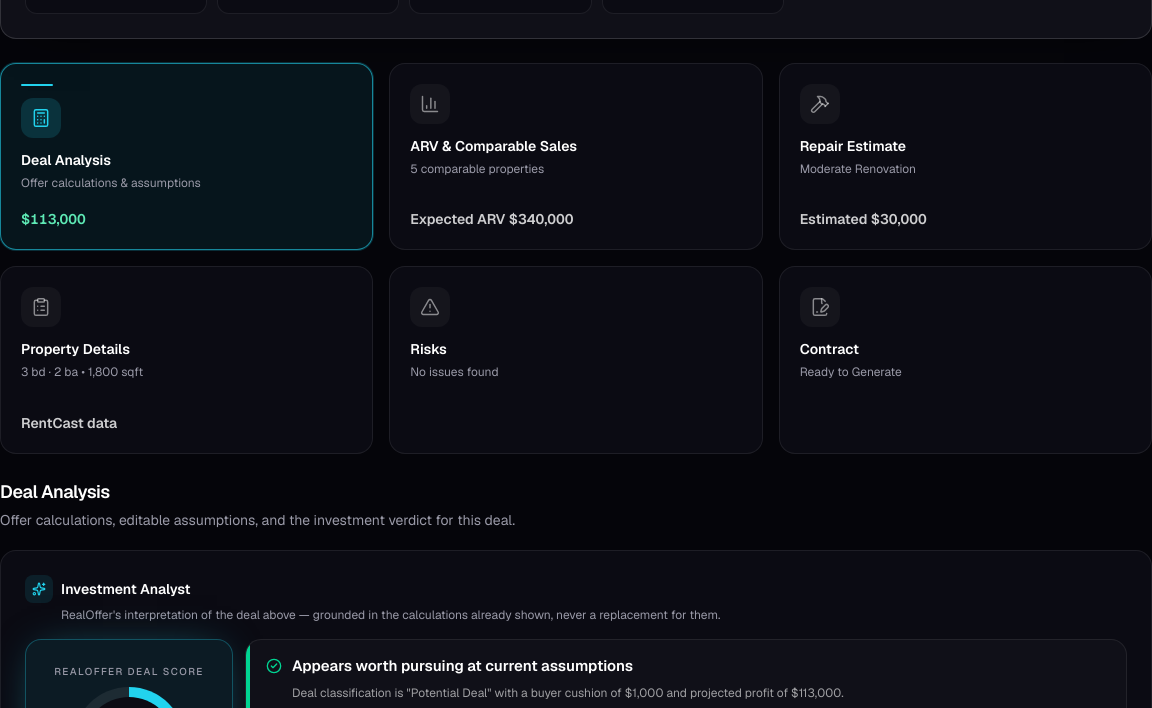
Test: DealWorkspace — section switching › hides Contract content whenever a different section is selected
(page scrolled)
Click the tab "Contract Ready to Generate" at (820, 307), box [779, 266, 1151, 454]
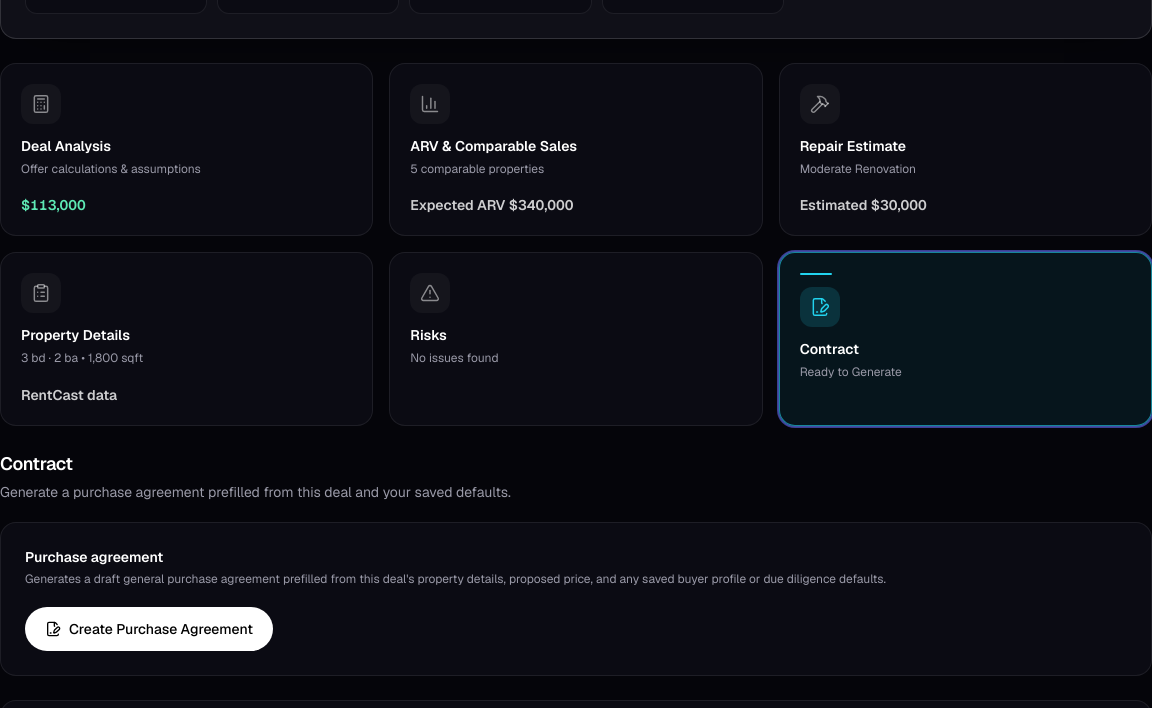
Now the heading "Purchase agreement" is shown, box [25, 548, 163, 566]
Click the tab "Deal Analysis Offer calculations & assumptions $113,000" at (41, 104), box [0, 63, 373, 236]
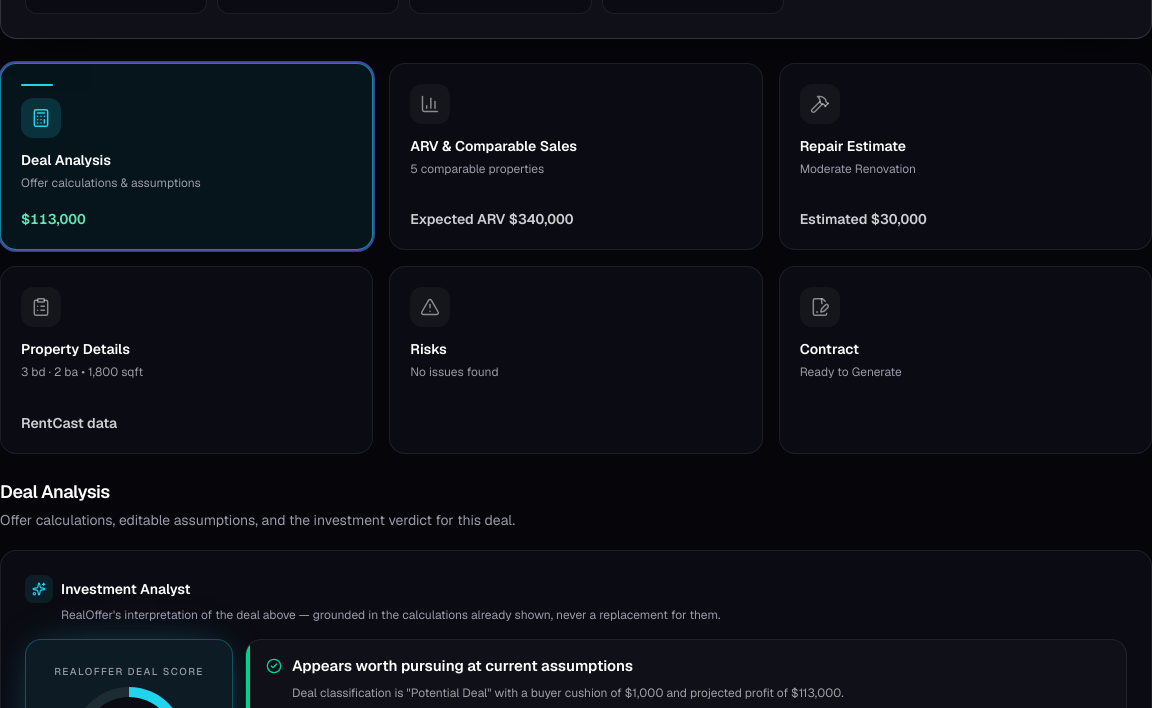
Now the text "purchase agreement" is gone
